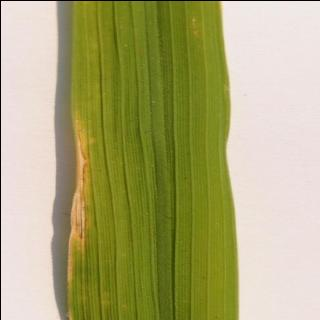Hawar-Daun: (56, 83, 126, 320)
